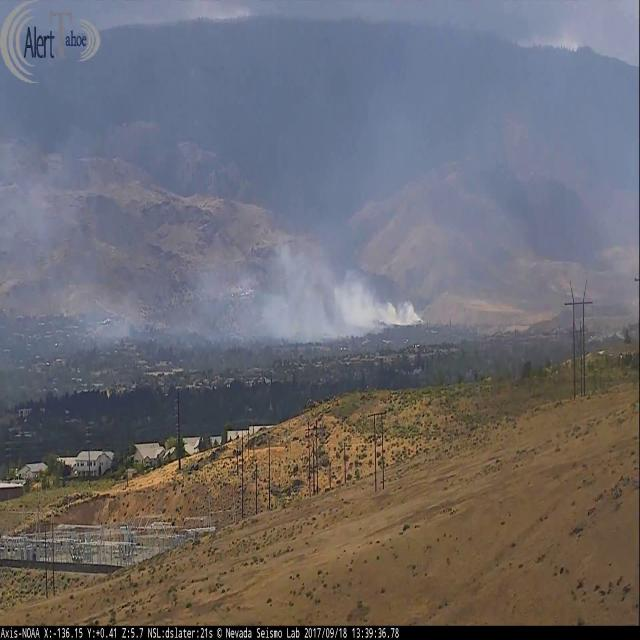smoke: (0, 116, 426, 358)
